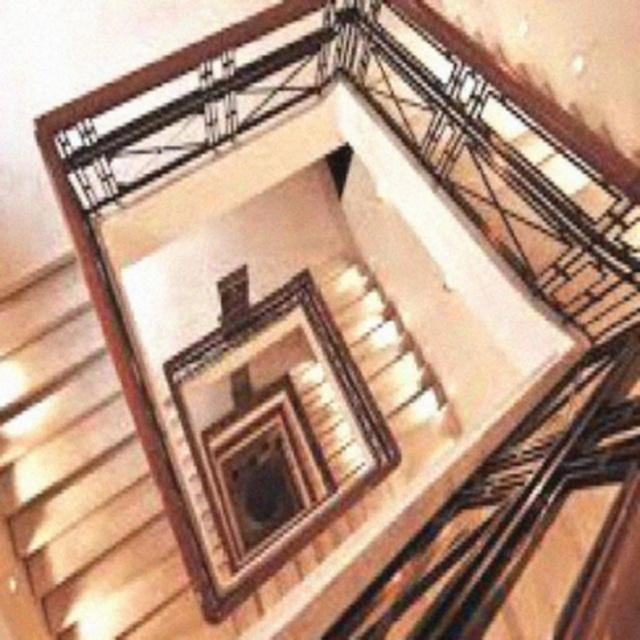stair: (0, 99, 231, 636), (288, 238, 462, 452)
